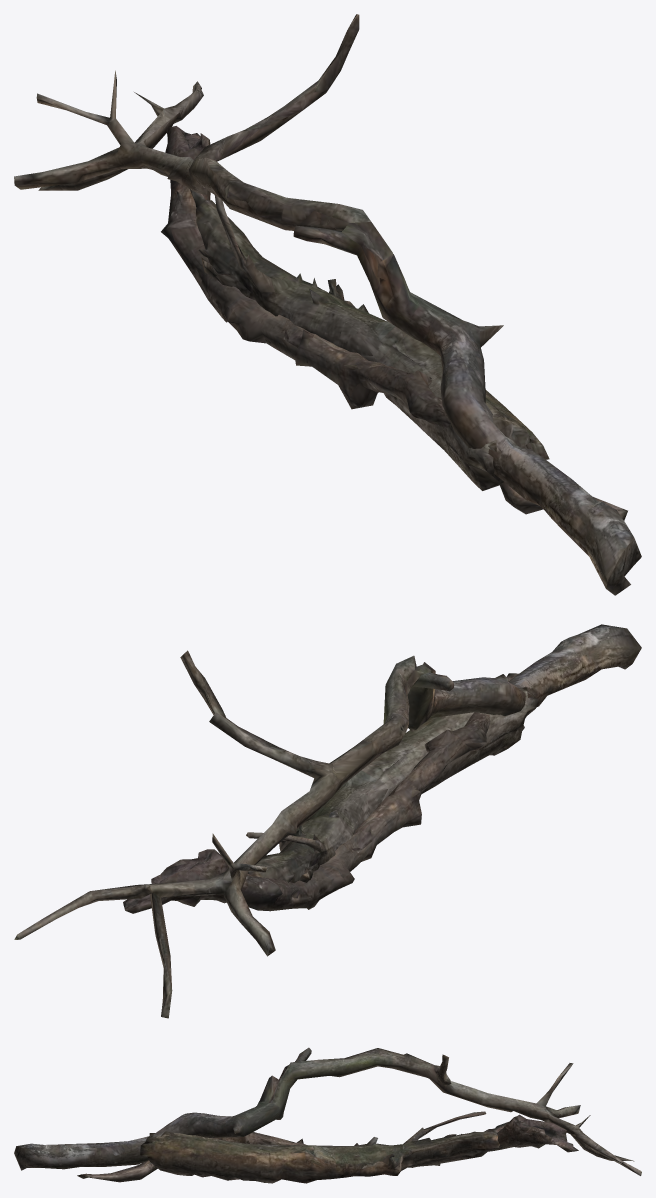
File: plant_branches_kit.glb
The picture shows the model from 3 angles, top to bottom: view 1: azimuth 30°, elevation 25°; view 2: azimuth 150°, elevation 25°; view 3: azimuth 270°, elevation 25°; orthographic projection. The views are drawn at different scales.
Visible parts, largest first — view 1: branch_00, branch_02, branch_01; view 2: branch_00, branch_01, branch_02; view 3: branch_00, branch_02, branch_01.
Part boxes in pixels (<box>): branch_00: <box>14,14,641,595</box>; branch_02: <box>190,189,549,490</box>; branch_01: <box>161,126,627,520</box>; branch_00: <box>14,624,641,1018</box>; branch_01: <box>123,673,524,913</box>; branch_02: <box>227,674,538,883</box>; branch_00: <box>14,1047,641,1175</box>; branch_02: <box>140,1111,508,1183</box>; branch_01: <box>77,1114,578,1182</box>.
Bounding box in the file's own units: 0.3236 × 0.3412 × 1.3.
1 material, 1 textured.
